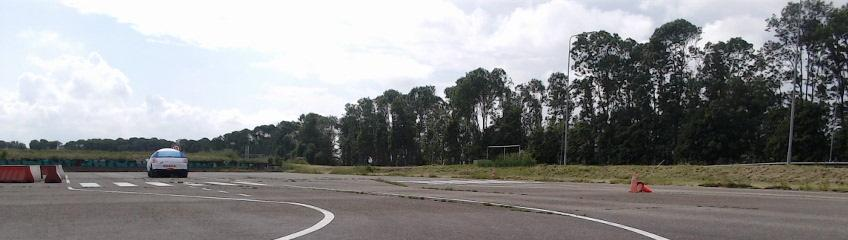Car: (147, 148, 188, 178)
Speed-limit-15km-h-: (172, 144, 180, 151)
